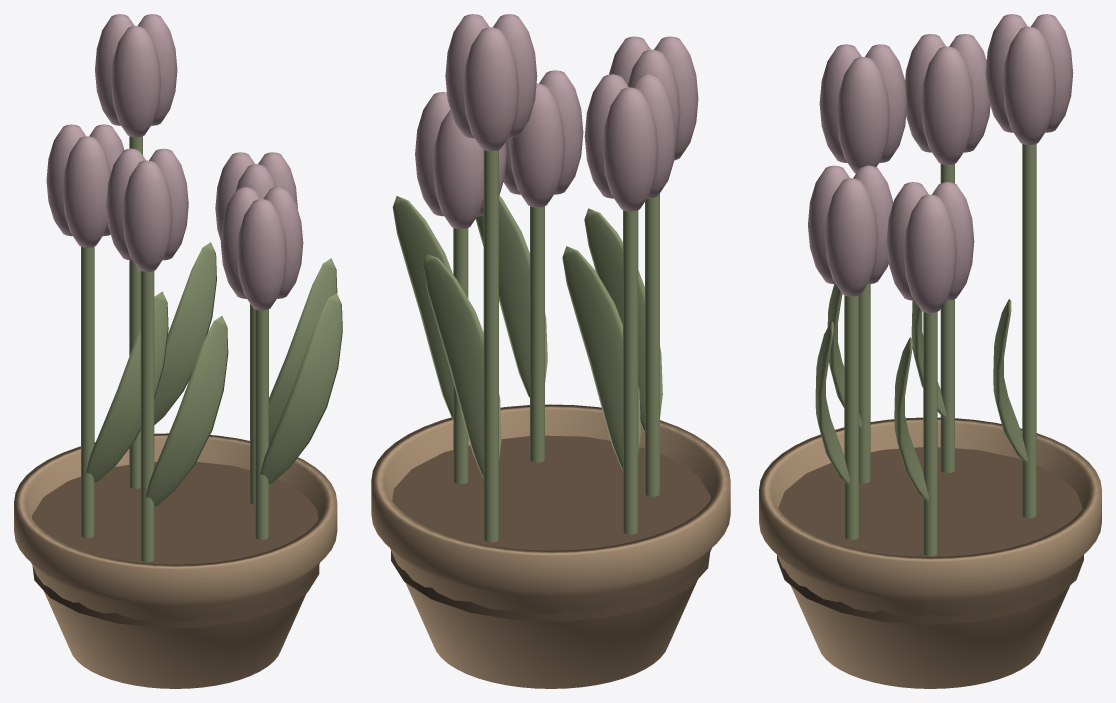
The model's file is tulips.glb.
3 renders of one model, left to right at view 1: azimuth 30°, elevation 25°; view 2: azimuth 150°, elevation 25°; view 3: azimuth 270°, elevation 25°, orthographic. The views are drawn at different scales.
Visible parts, largest first — view 1: tulip-planter-hollow-vessel, tulip-planter-contained-soil, tulip-leaf-1, tulip-leaf-3, tulip-leaf-2, tulip-leaf-4, tulip-petal-1-1, tulip-petal-2-1, tulip-petal-3-1, tulip-petal-4-1, tulip-stem-1, tulip-stem-4 (+15 smaller); view 2: tulip-planter-hollow-vessel, tulip-planter-contained-soil, tulip-leaf-2, tulip-leaf-4, tulip-stem-2, tulip-petal-4-2, tulip-petal-2-2, tulip-stem-4, tulip-petal-3-2, tulip-leaf-3, tulip-stem-1, tulip-petal-0-2 (+13 smaller); view 3: tulip-planter-hollow-vessel, tulip-planter-contained-soil, tulip-stem-2, tulip-petal-2-0, tulip-petal-3-0, tulip-petal-4-0, tulip-petal-0-0, tulip-petal-1-0, tulip-stem-0, tulip-stem-3, tulip-stem-4, tulip-stem-1 (+15 smaller).
Boxes of the visible parts, x1,y1,x2,y2 form: tulip-planter-hollow-vessel: (14, 433, 337, 688); tulip-planter-contained-soil: (32, 462, 319, 628); tulip-leaf-1: (145, 316, 228, 506); tulip-leaf-3: (260, 293, 342, 483); tulip-leaf-2: (154, 242, 216, 424); tulip-leaf-4: (85, 291, 168, 482); tulip-petal-1-1: (122, 160, 172, 272); tulip-petal-2-1: (111, 26, 161, 137); tulip-petal-3-1: (237, 199, 286, 310); tulip-petal-4-1: (62, 136, 110, 247); tulip-stem-1: (140, 271, 154, 562); tulip-stem-4: (81, 246, 94, 538); tulip-planter-hollow-vessel: (371, 404, 730, 688); tulip-planter-contained-soil: (391, 435, 710, 621); tulip-leaf-2: (423, 254, 501, 476); tulip-leaf-4: (562, 246, 640, 469); tulip-stem-2: (483, 150, 498, 542); tulip-petal-4-2: (602, 87, 658, 211); tulip-petal-2-2: (463, 27, 519, 151); tulip-stem-4: (623, 210, 638, 534); tulip-petal-3-2: (509, 83, 565, 207); tulip-leaf-3: (475, 195, 547, 397); tulip-stem-1: (645, 193, 659, 496); tulip-petal-0-2: (433, 110, 483, 229); tulip-planter-hollow-vessel: (759, 417, 1101, 688); tulip-planter-contained-soil: (777, 447, 1083, 624); tulip-stem-2: (1022, 144, 1036, 518); tulip-petal-2-0: (1002, 26, 1055, 145); tulip-petal-3-0: (825, 178, 878, 296); tulip-petal-4-0: (921, 46, 974, 165); tulip-petal-0-0: (904, 194, 956, 313); tulip-petal-1-0: (837, 57, 889, 173); tulip-stem-0: (923, 312, 937, 556); tulip-stem-3: (844, 295, 858, 539); tulip-stem-4: (940, 163, 954, 473); tulip-stem-1: (859, 284, 870, 483).
Size of the model in its own units: 0.3959 by 0.766 by 0.38.
